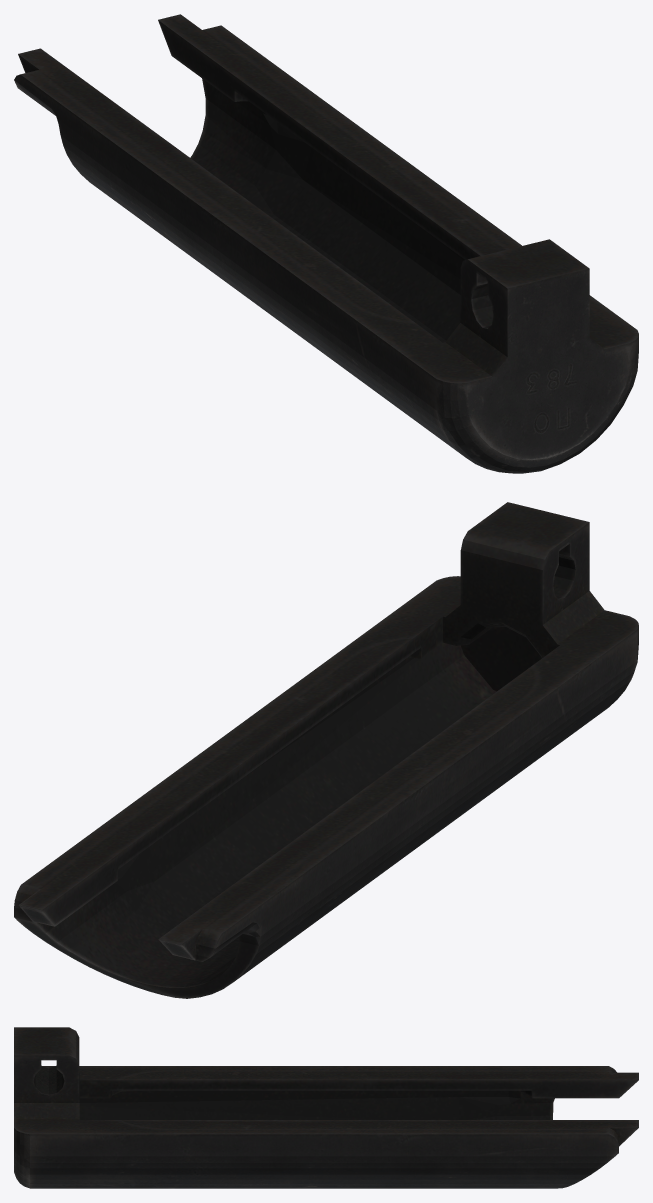
The picture shows the model from 3 angles, top to bottom: view 1: azimuth 30°, elevation 25°; view 2: azimuth 150°, elevation 25°; view 3: azimuth 270°, elevation 25°; orthographic projection. The views are drawn at different scales.
Parts seen in each view (by area): view 1: TW_634f05ca517ccc8a960fc748_PZ_Import; view 2: TW_634f05ca517ccc8a960fc748_PZ_Import; view 3: TW_634f05ca517ccc8a960fc748_PZ_Import.
Part boxes in pixels (box(x1,y1,x2,y2)): TW_634f05ca517ccc8a960fc748_PZ_Import: box(14, 14, 638, 473); TW_634f05ca517ccc8a960fc748_PZ_Import: box(14, 502, 638, 998); TW_634f05ca517ccc8a960fc748_PZ_Import: box(14, 1027, 638, 1188).
Size of the model in its own units: 0.0185 by 0.0717 by 0.0177.
1 material, 1 textured.
